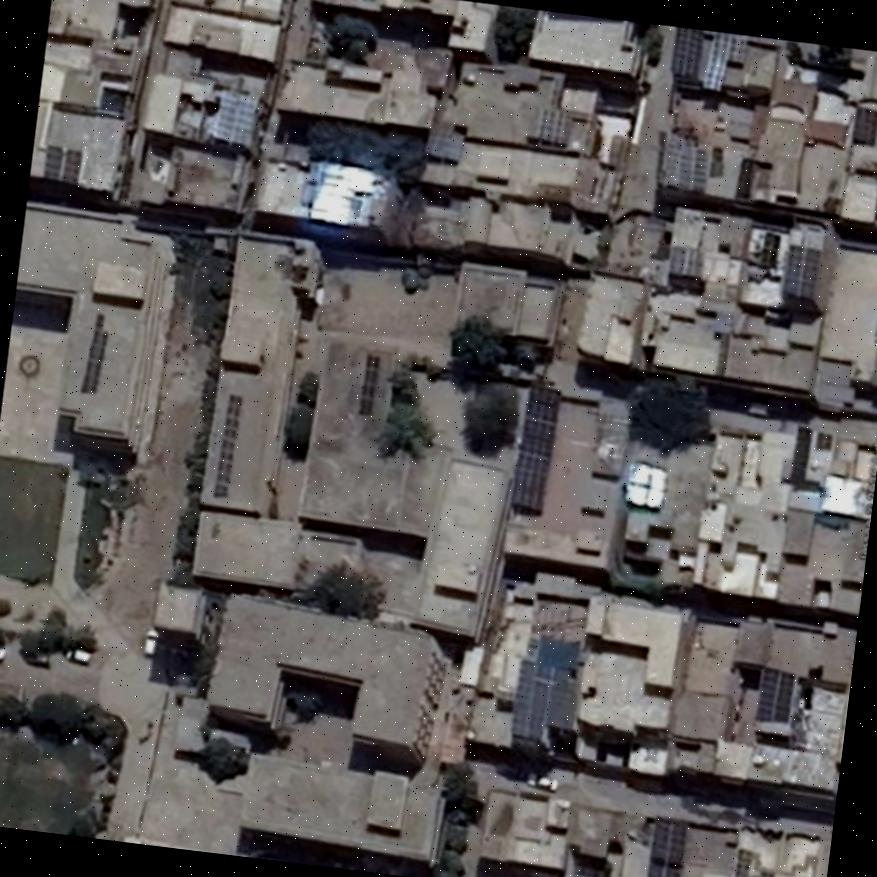Solarpanel: (509, 385, 558, 508), (509, 660, 579, 732), (212, 394, 242, 496), (701, 32, 744, 92), (210, 87, 254, 145), (662, 133, 706, 190), (648, 815, 687, 877), (752, 664, 793, 722), (79, 312, 108, 392), (781, 245, 819, 298), (671, 27, 700, 80), (42, 144, 79, 183), (358, 354, 378, 413), (537, 109, 570, 144), (426, 131, 461, 162), (852, 108, 877, 144)
